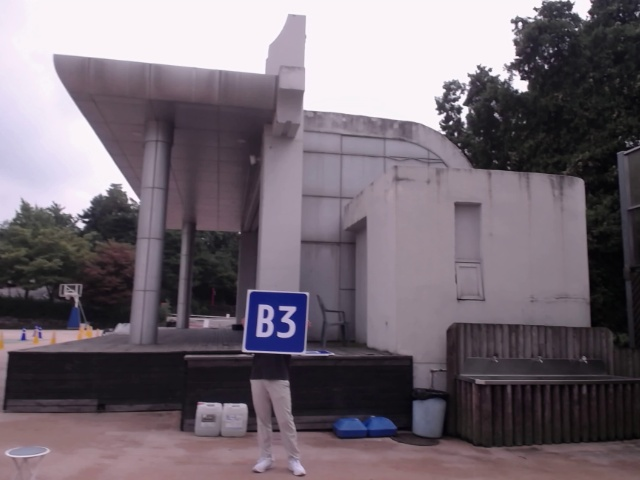delivery_b3: (244, 288, 309, 353)
